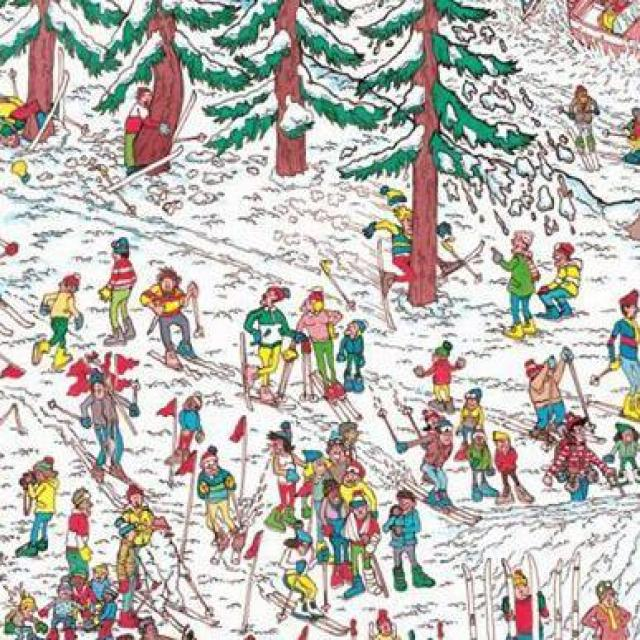waldo: (566, 414, 587, 439)
